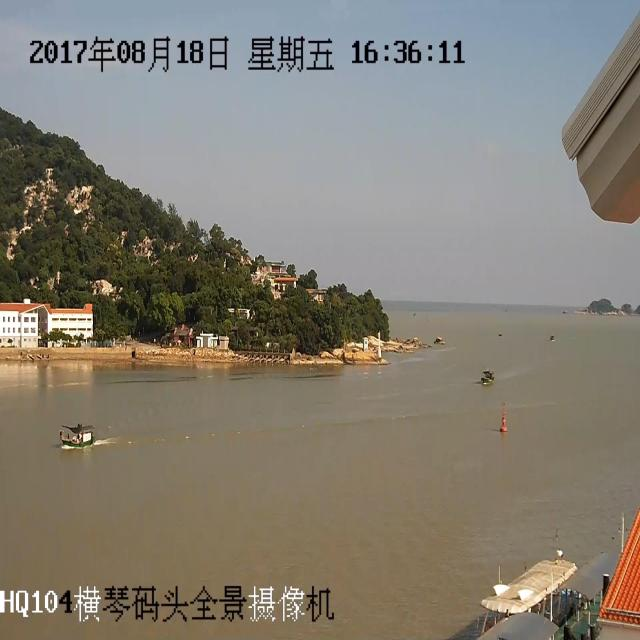buoy: (499, 400, 517, 441)
fishing boat: (62, 412, 102, 464), (477, 343, 500, 403)
